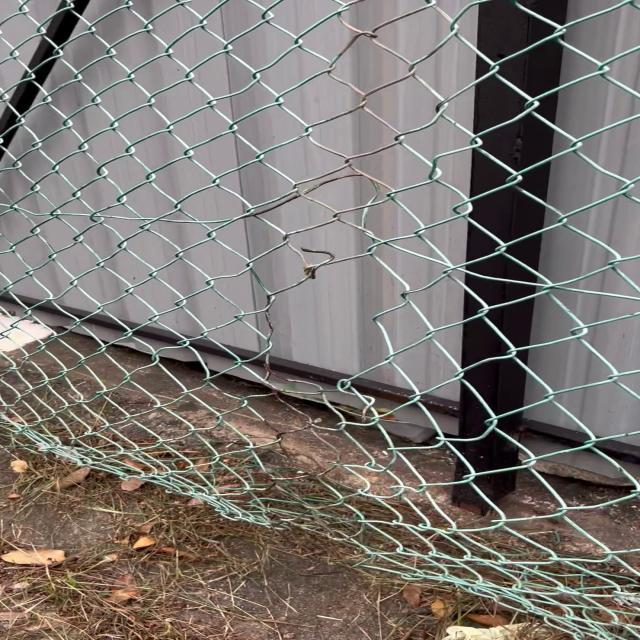fence line: (261, 250, 415, 399)
